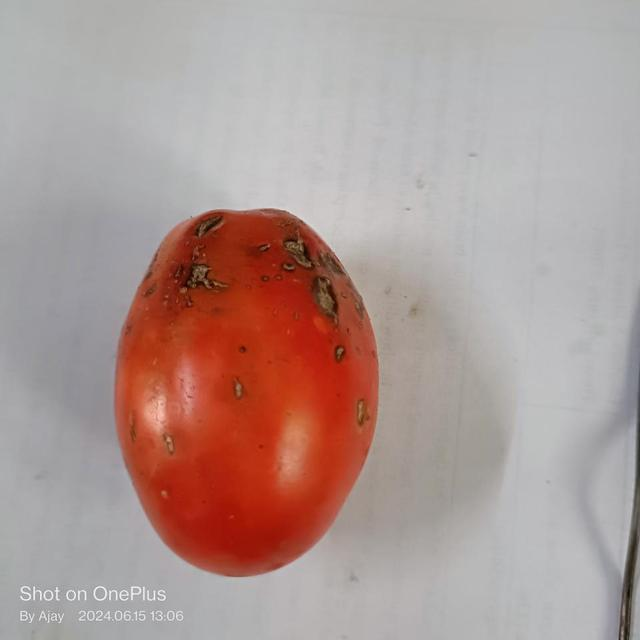Bacterial Spot Fruit: (11, 14, 243, 297)
